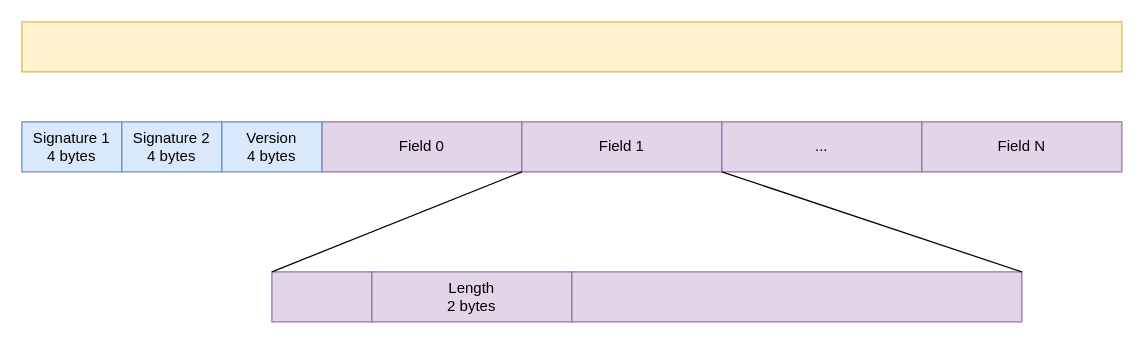
The diagram is 1144 pixels wide and 344 high, and some of its shapes have lost their labels. Each missing label, with the box of its shape:
Header Version 3.x: (21, 21, 1122, 72)
ID 1 byte: (271, 271, 372, 322)
Value Length bytes: (571, 271, 1022, 322)
